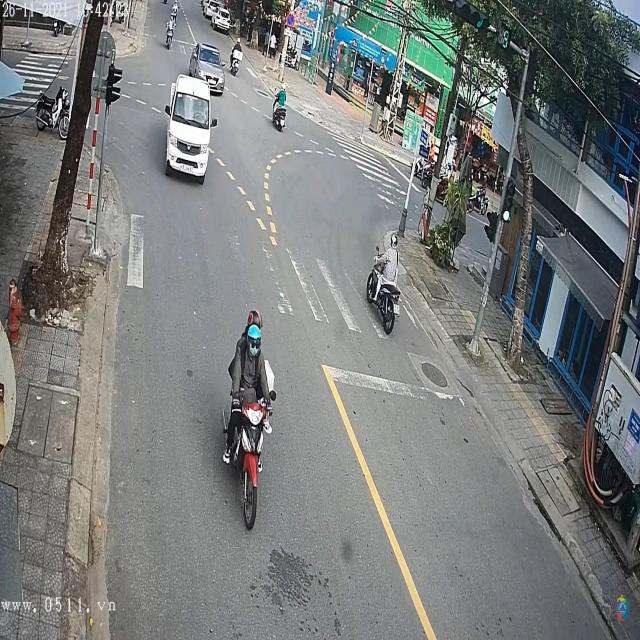car: (187, 43, 226, 94)
motorcycle: (222, 366, 279, 534), (367, 240, 404, 338), (271, 106, 287, 132), (162, 23, 175, 52)
truck: (165, 76, 215, 182)
